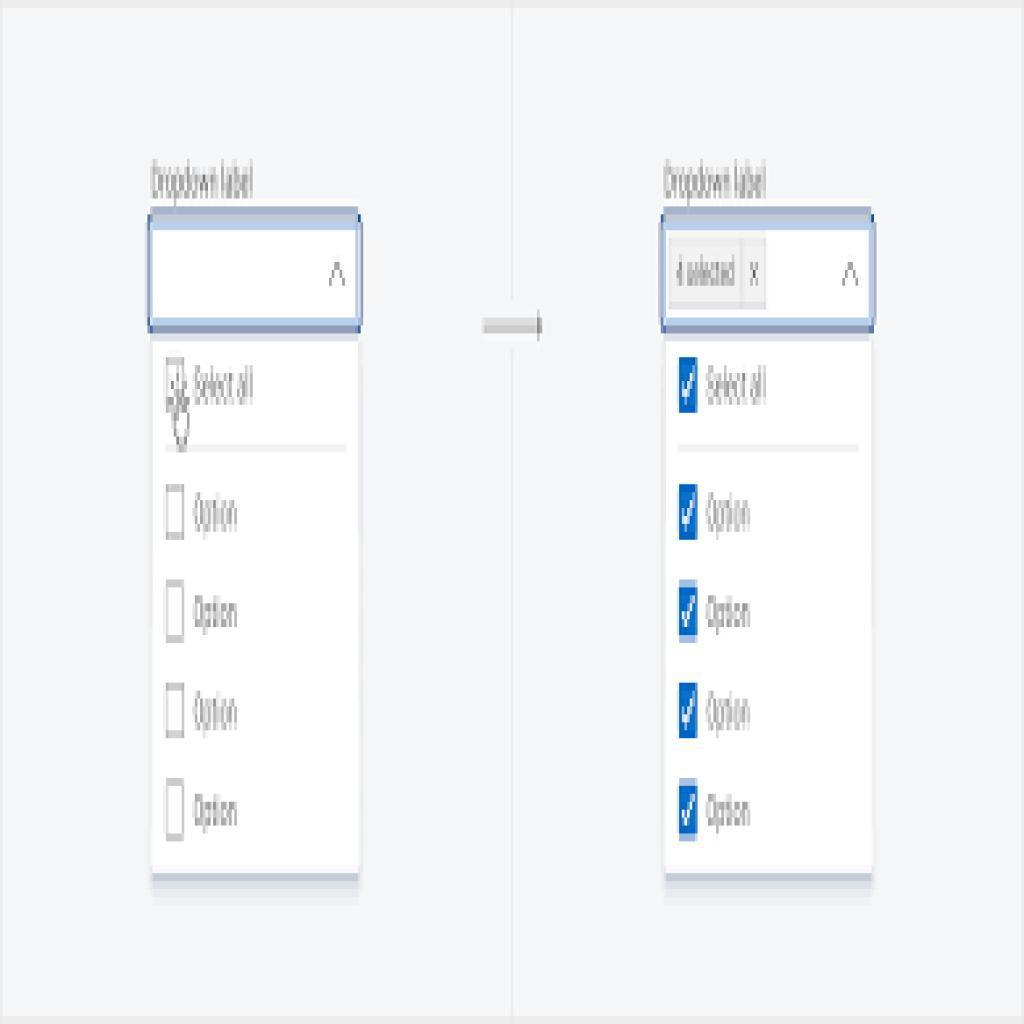checkbox: (162, 580, 191, 648), (161, 681, 190, 742), (675, 580, 701, 644), (675, 778, 701, 841), (164, 780, 187, 847), (678, 482, 701, 541), (678, 357, 701, 414), (165, 485, 186, 544), (681, 684, 700, 741)
dropdown: (147, 207, 363, 335), (660, 207, 876, 335)
